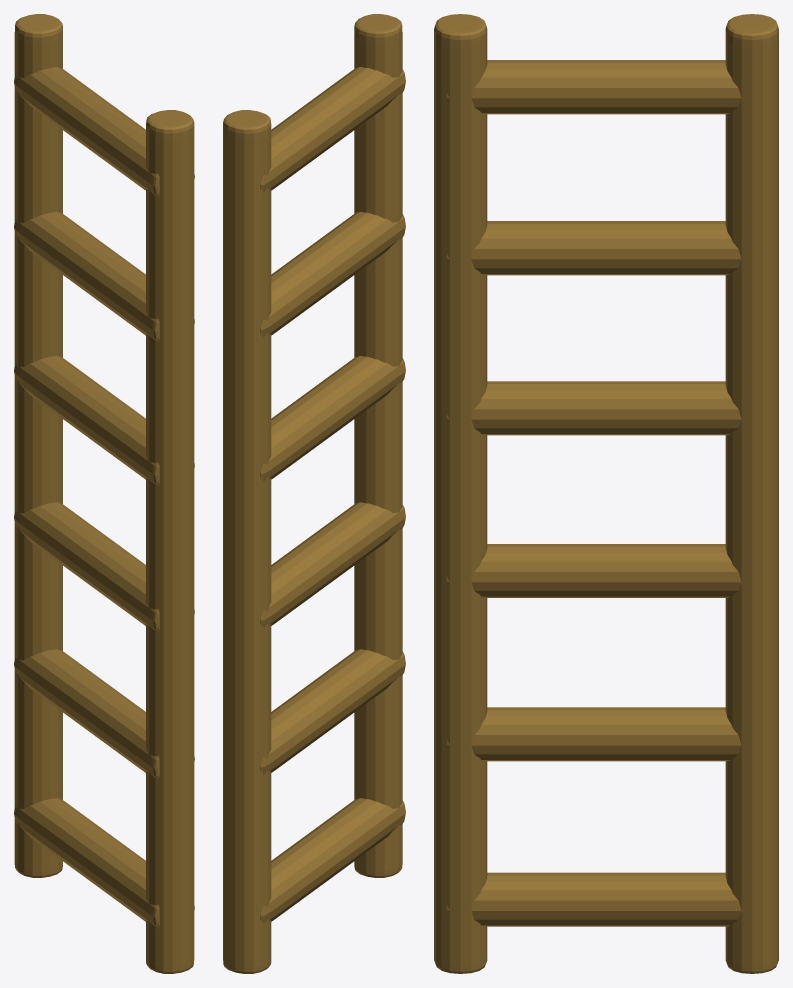
Rendered from ladder.fbx.
The picture shows the model from 3 angles, left to right: view 1: azimuth 30°, elevation 25°; view 2: azimuth 150°, elevation 25°; view 3: azimuth 270°, elevation 25°; orthographic projection. The views are drawn at different scales.
Parts seen in each view (by area): view 1: Cube, Cube.001, Cube.003, Cube.002, Cube.004, Cube.005, Cube.007, Cube.006; view 2: Cube.001, Cube, Cube.003, Cube.002, Cube.004, Cube.005, Cube.007, Cube.006; view 3: Cube.001, Cube, Cube.002, Cube.003, Cube.005, Cube.006, Cube.007, Cube.004.
Part boxes in pixels (x1,y1,x2,y2): Cube: [146, 110, 194, 973]; Cube.001: [14, 14, 62, 877]; Cube.003: [14, 649, 194, 779]; Cube.002: [14, 798, 194, 928]; Cube.004: [14, 502, 194, 632]; Cube.005: [14, 356, 194, 486]; Cube.007: [14, 67, 194, 197]; Cube.006: [14, 212, 194, 341]; Cube.001: [223, 110, 271, 973]; Cube: [354, 14, 402, 877]; Cube.003: [260, 649, 405, 774]; Cube.002: [260, 798, 405, 923]; Cube.004: [260, 502, 405, 627]; Cube.005: [260, 356, 405, 481]; Cube.007: [260, 67, 405, 192]; Cube.006: [260, 212, 405, 337]; Cube.001: [725, 14, 778, 973]; Cube: [434, 14, 487, 973]; Cube.002: [446, 872, 741, 926]; Cube.003: [446, 707, 741, 761]; Cube.005: [446, 381, 741, 435]; Cube.006: [446, 221, 741, 275]; Cube.007: [446, 60, 741, 114]; Cube.004: [446, 544, 741, 597].
Bounding box in the file's own units: 18.94 × 356 × 118.
